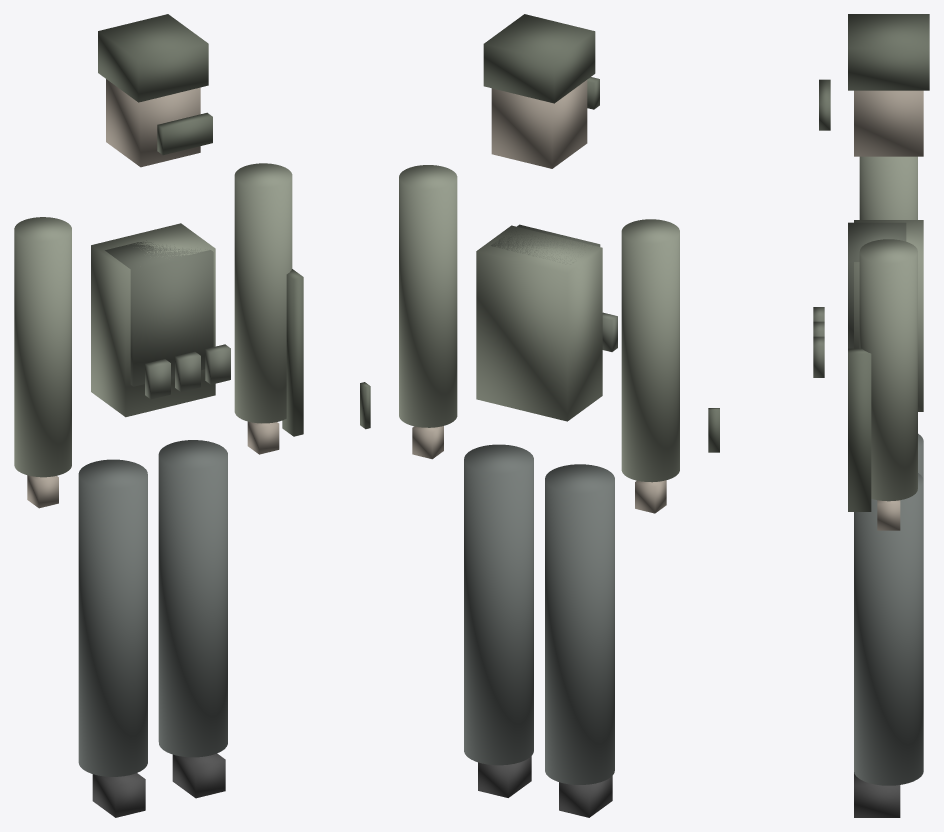
Rendered from ModernSoldier.glb.
The picture shows the model from 3 angles, left to right: view 1: azimuth 30°, elevation 25°; view 2: azimuth 150°, elevation 25°; view 3: azimuth 270°, elevation 25°; orthographic projection.
Visible parts, largest first — view 1: LegL, LegR, ArmL, ArmR, Vest, Torso, Helmet, Head, Rifle, BootR, BootL, Visor (+5 smaller); view 2: LegR, LegL, Torso, ArmL, ArmR, Helmet, Head, BootL, BootR, Vest, HandR, HandL (+1 smaller); view 3: LegR, ArmR, Helmet, Head, Rifle, ArmL, Torso, Vest, BootR, HandR, Visor, RifleBarrel (+1 smaller).
Boxes of the visible parts, <box> form: LegL: <box>78,459,147,776</box>; LegR: <box>158,440,227,757</box>; ArmL: <box>14,217,71,477</box>; ArmR: <box>234,163,292,423</box>; Vest: <box>105,240,213,386</box>; Torso: <box>91,223,215,417</box>; Helmet: <box>98,14,208,102</box>; Head: <box>106,79,200,167</box>; Rifle: <box>282,269,303,436</box>; BootR: <box>172,753,225,798</box>; BootL: <box>92,773,145,817</box>; Visor: <box>157,112,212,155</box>; LegR: <box>464,444,533,765</box>; LegL: <box>545,464,614,784</box>; Torso: <box>476,225,602,421</box>; ArmL: <box>621,219,679,482</box>; ArmR: <box>399,165,457,427</box>; Helmet: <box>483,14,595,103</box>; Head: <box>491,80,587,168</box>; BootL: <box>559,776,612,817</box>; BootR: <box>478,756,531,797</box>; Vest: <box>491,224,600,264</box>; HandR: <box>412,426,443,459</box>; HandL: <box>635,480,666,513</box>; LegR: <box>854,473,923,785</box>; ArmR: <box>859,239,917,501</box>; Helmet: <box>848,14,929,90</box>; Head: <box>854,90,923,156</box>; Rifle: <box>848,348,871,511</box>; ArmL: <box>859,156,917,219</box>; Torso: <box>854,220,923,411</box>; Vest: <box>848,222,906,348</box>; BootR: <box>854,772,900,817</box>; HandR: <box>877,500,900,530</box>; Visor: <box>819,79,830,130</box>; RifleBarrel: <box>708,408,719,452</box>.
Bounding box in the file's own units: 0.54 × 1.44 × 0.38.
